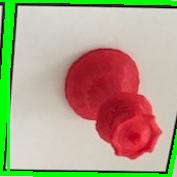Red Queen: (62, 41, 166, 162)
